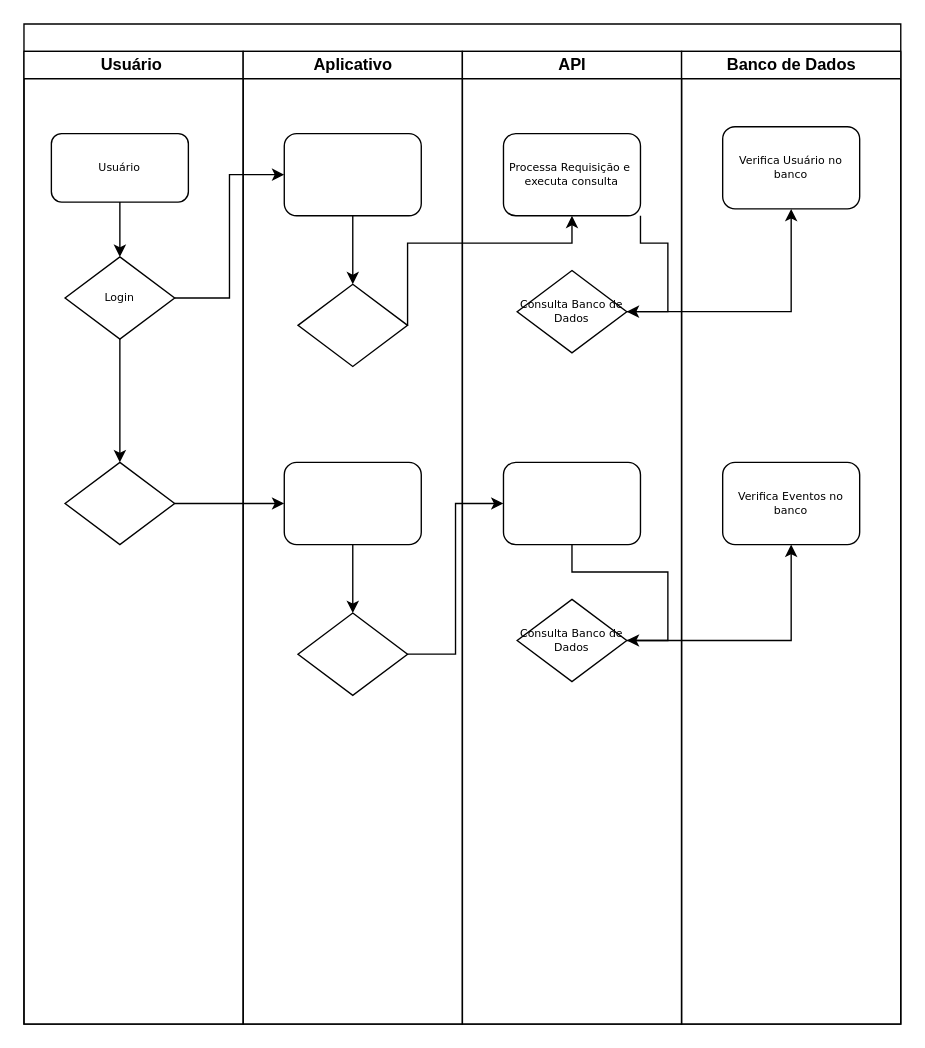
Image size: 925x1048. Some labels were removed from this diagram. The centre of each missing label's shape, as x and y in pixels:
Navegar até Eventos: the point at 119,503
Processa Requisição e consulta banco para retornar lista de Eventos: the point at 571,503
Requisição de Eventos: the point at 352,653
Requisição Login: the point at 352,324
Tela de Eventos: the point at 352,503
Tela de Login: the point at 352,174
